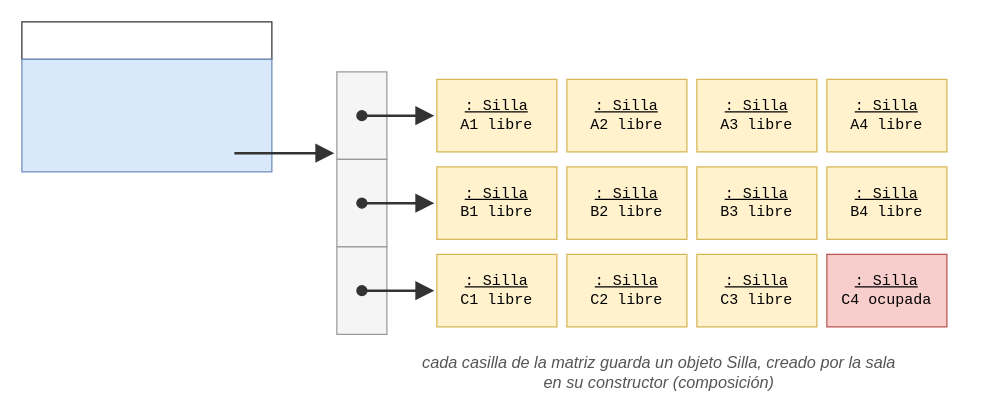
The diagram is 1006 pixels wide and 419 high, and some of its shapes have lost their labels. Here are the shapes that lost their labels. From the top down, the centre of each, then its label:
point 146,40: sala : Sala
point 146,115: filas = 3 sillas_por_fila = 4 sillas = ●
